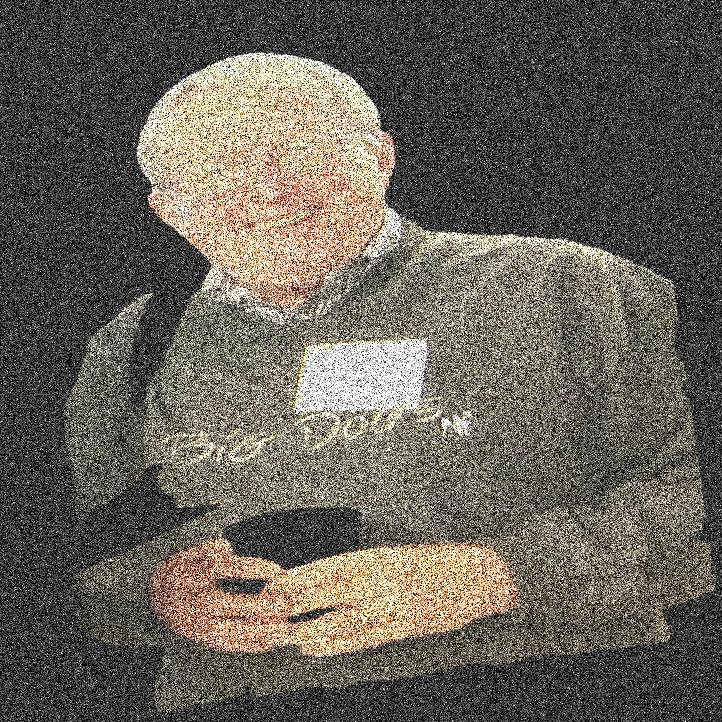Pessoa: (146, 0, 721, 721)
